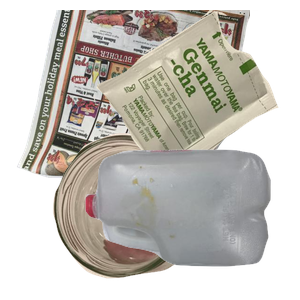glass: (50, 131, 252, 300)
paper: (14, 10, 254, 190)
plastic: (83, 147, 300, 300)
trash: (91, 10, 300, 186)
